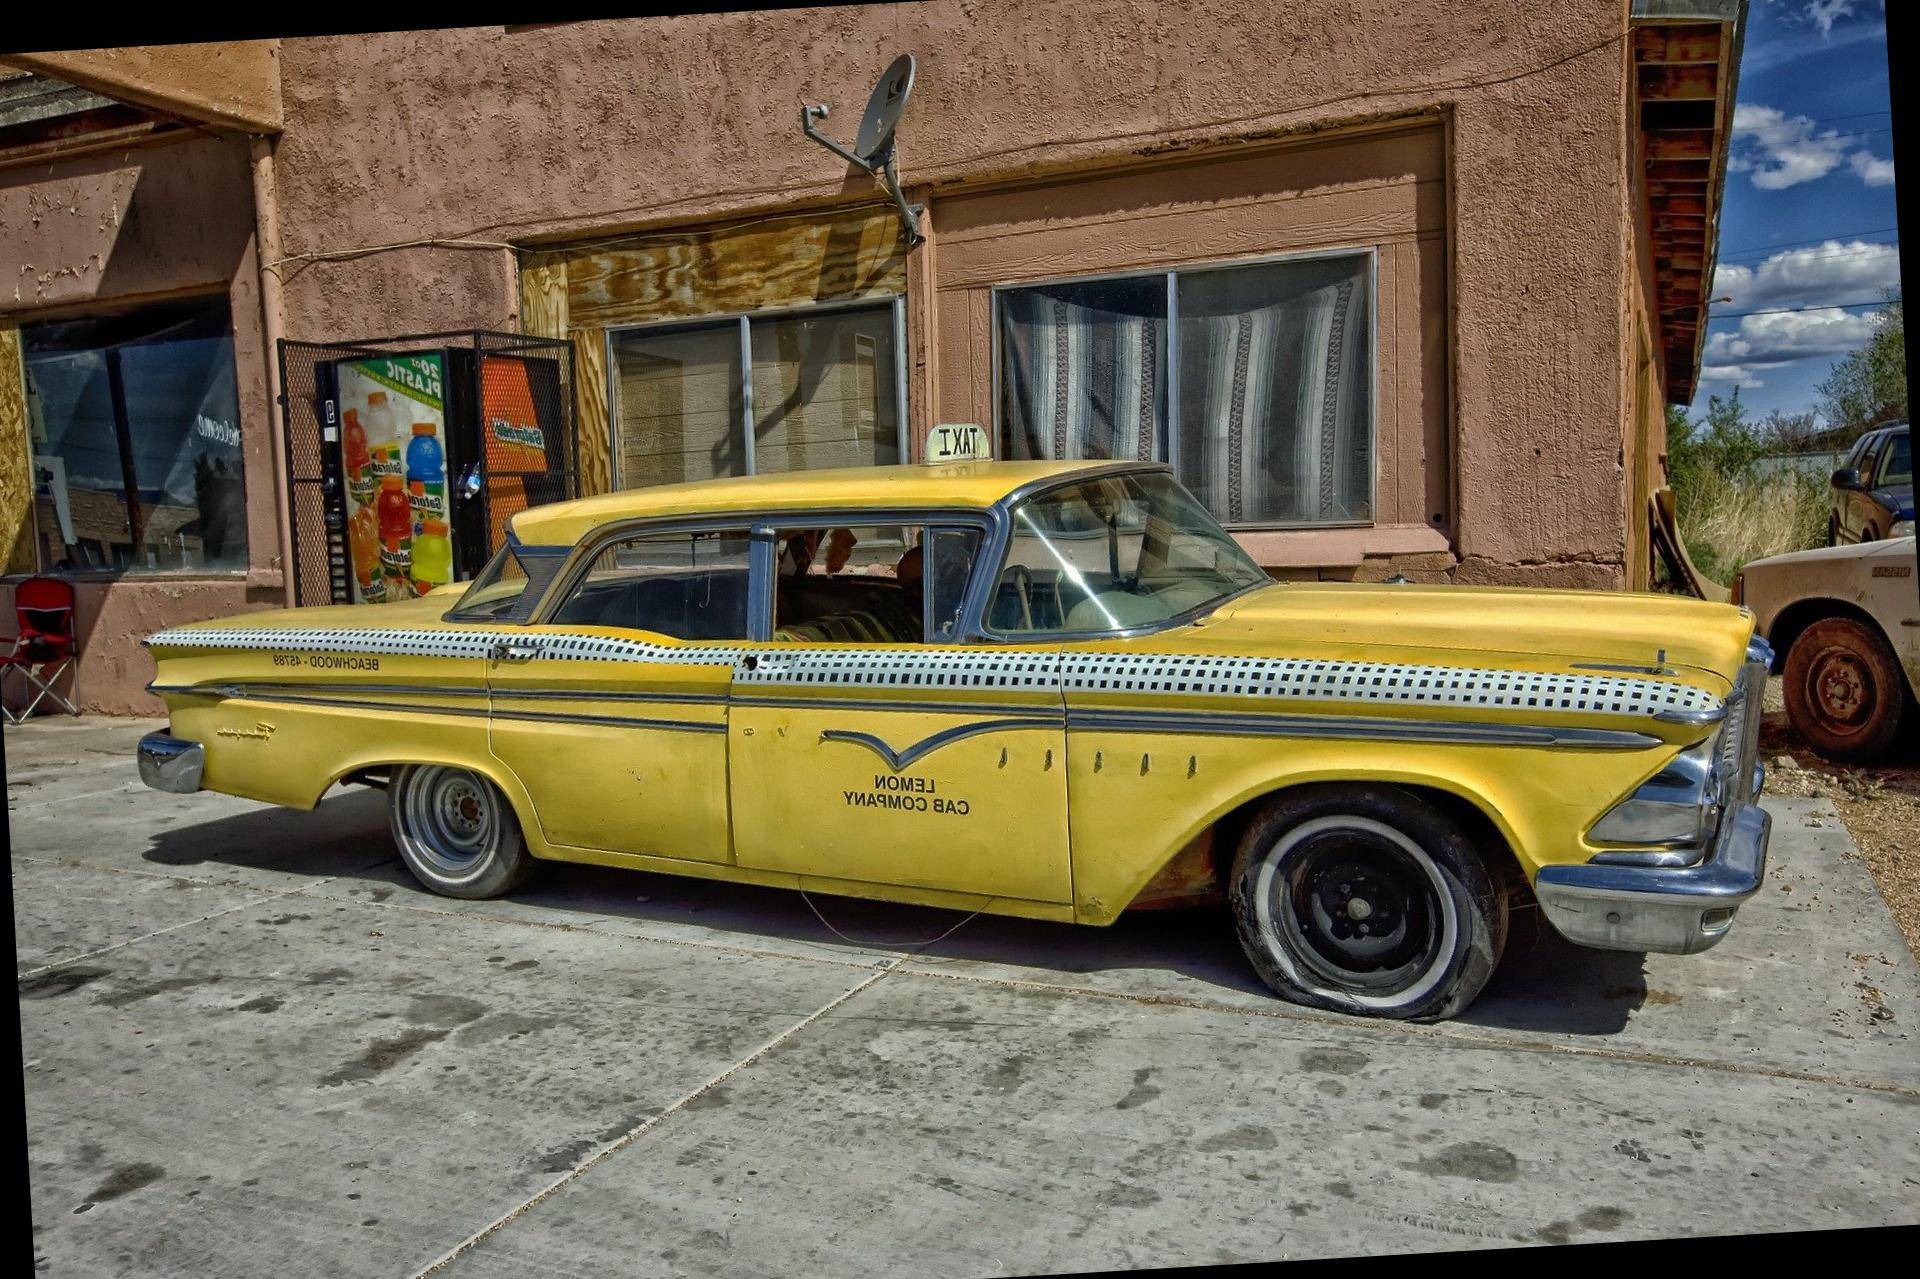taxi: (138, 470, 1789, 924)
